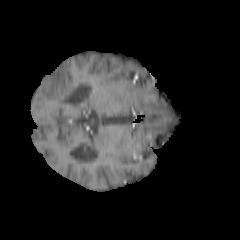glioma: (40, 65, 78, 102)
